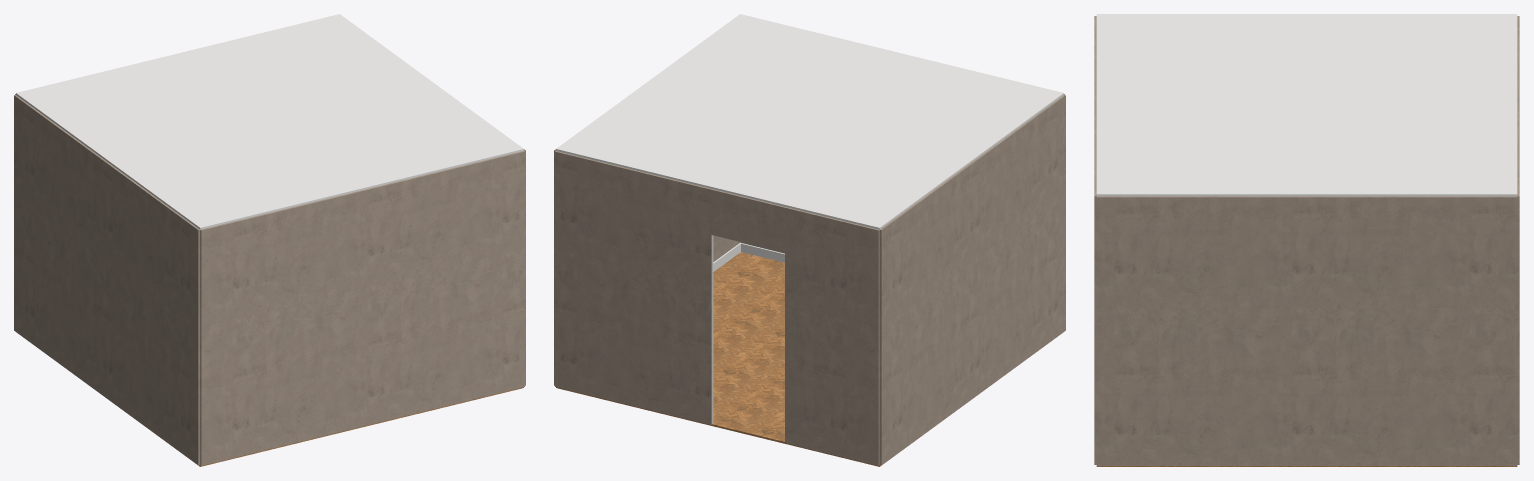
The model's file is BedroomShell.glb.
The picture shows the model from 3 angles, left to right: view 1: azimuth 30°, elevation 25°; view 2: azimuth 150°, elevation 25°; view 3: azimuth 270°, elevation 25°; orthographic projection. The views are drawn at different scales.
Visible parts, largest first — view 1: BedroomShell; view 2: BedroomShell; view 3: BedroomShell.
Boxes of the visible parts, left/top/right/bottom form: BedroomShell: left=14, top=14, right=525, bottom=466; BedroomShell: left=554, top=14, right=1065, bottom=466; BedroomShell: left=1094, top=14, right=1519, bottom=466.
Size of the model in its own units: 3.64 by 2.54 by 3.59.
Materials: 4 (2 with a texture image).
